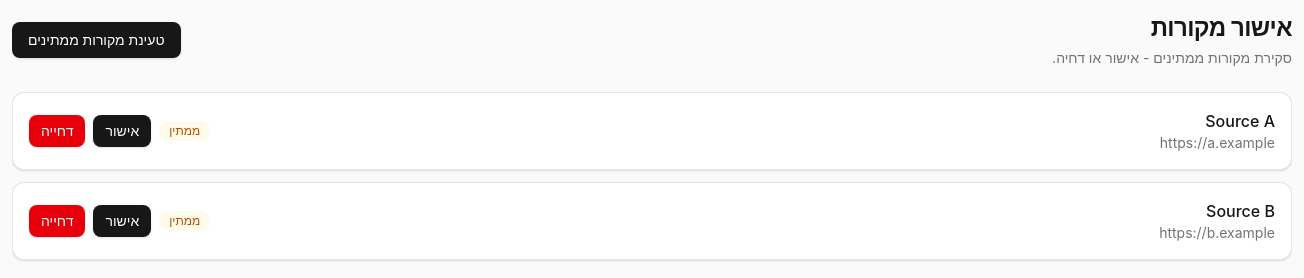
Scenario: AdminView - happy path › rejects a source and removes it from the list
The image size is (1304, 278).
Click the button "דחייה" in the row of "https://b.example" at (57, 221), box x1=29 y1=205 x2=85 y2=237
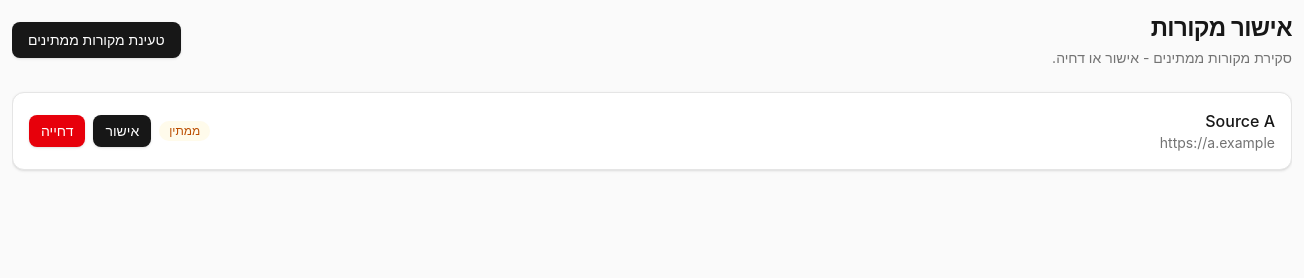
Now the number of list items is 1, box x1=12 y1=92 x2=1292 y2=170
